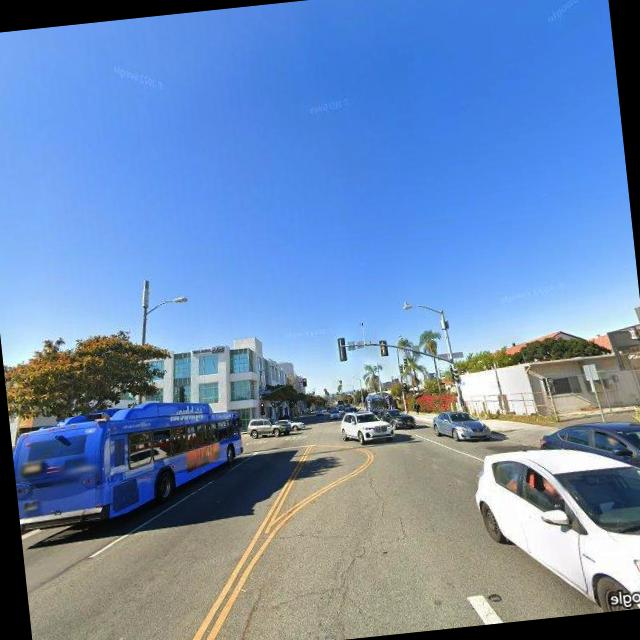crack: (273, 522, 351, 547), (363, 469, 389, 516), (396, 510, 410, 541)
